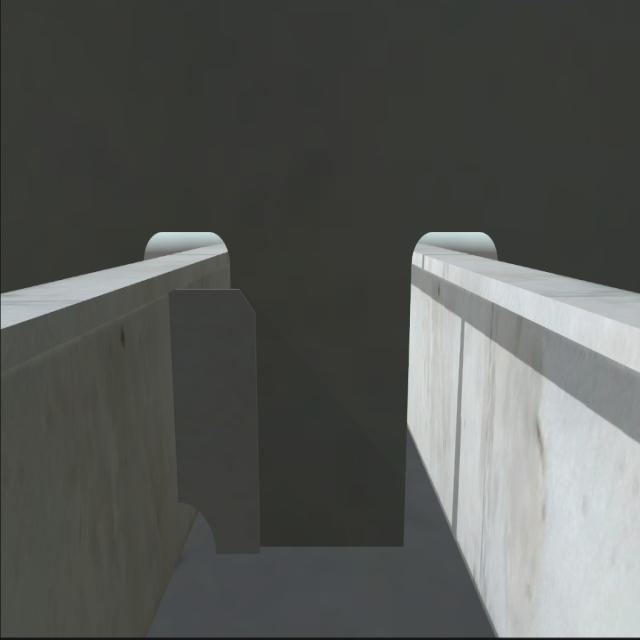fillet_hole: (180, 502, 214, 550)
fillet_yong_jeop_jang: (212, 540, 408, 554)
longi_yong_jeop_jang: (162, 284, 185, 508)
plate_CP03: (172, 288, 262, 555)
